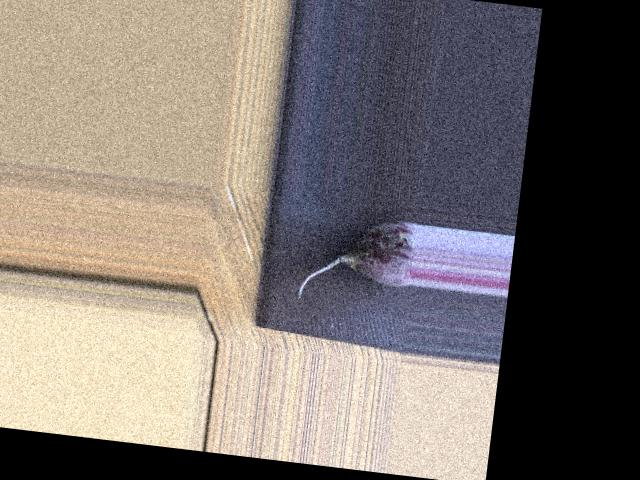beet: (297, 209, 417, 310)
